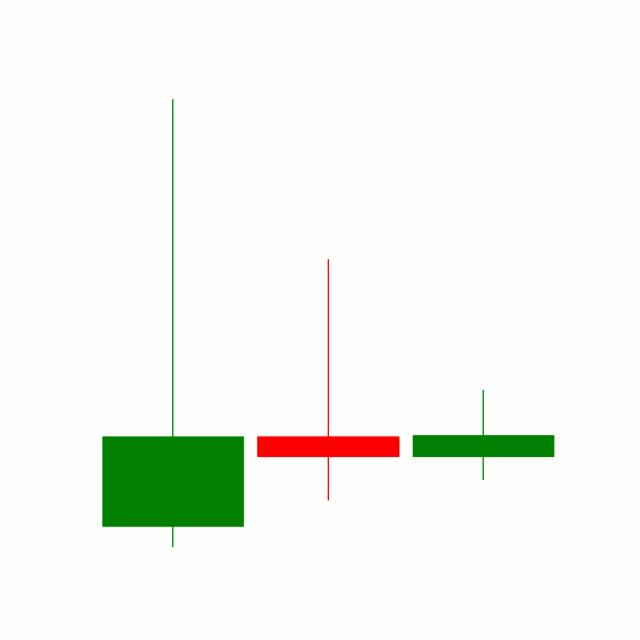Spinning Top: (249, 255, 406, 503)
